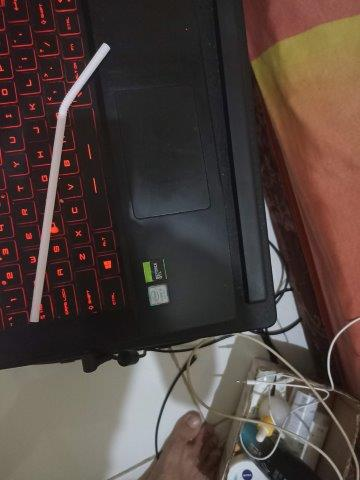sedotan: (29, 43, 110, 322)
